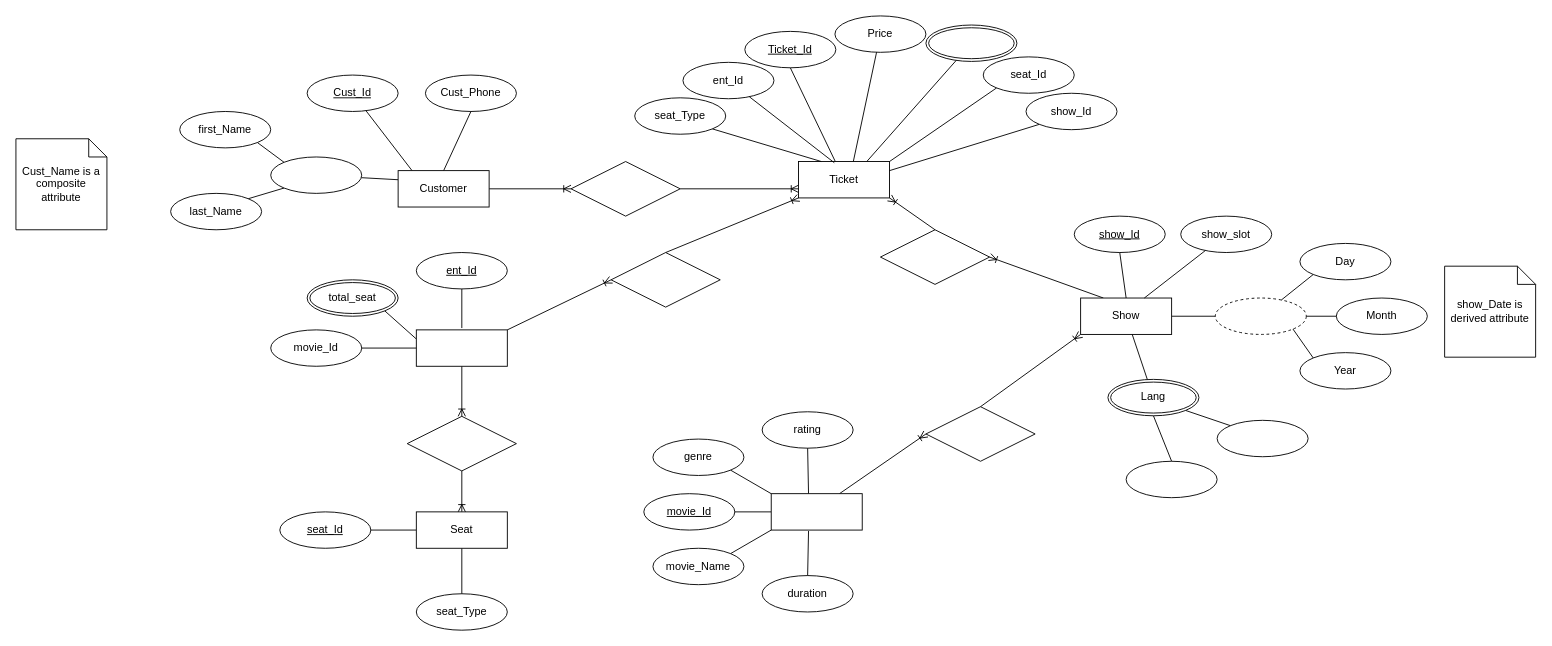
Some shapes in this 1552 by 646 pixel diagram are drawn without their labels. Each missing label, with the centre of its shape:
books: point (665, 279)
Cust_Name: point (316, 174)
English: point (1171, 479)
has: point (935, 256)
Hindi: point (1262, 438)
Movie: point (816, 511)
movie_Room: point (461, 347)
of: point (980, 433)
on: point (461, 443)
purchased: point (625, 188)
show_Date: point (1260, 315)
ticket_Count: point (971, 42)
